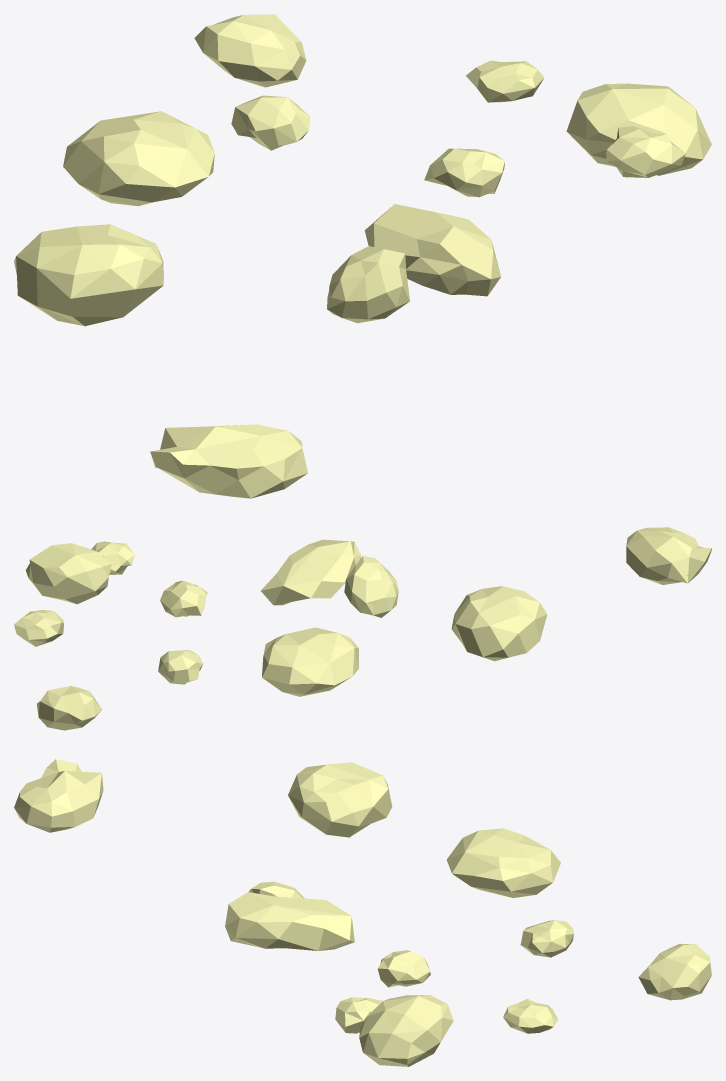
File: MangaKa Props - N_C_Veg_Rocks_01.glb
3 views of the same model, one above another, from view 1: azimuth 30°, elevation 25°; view 2: azimuth 150°, elevation 25°; view 3: azimuth 270°, elevation 25° (orthographic). The views are drawn at different scales.
Visible parts, largest first — view 1: N_C_Veg_Rocks_01_blueScreen; view 2: N_C_Veg_Rocks_01_blueScreen; view 3: N_C_Veg_Rocks_01_blueScreen.
Part boxes in pixels (x1,y1,x2,y2): N_C_Veg_Rocks_01_blueScreen: (14, 14, 711, 498); N_C_Veg_Rocks_01_blueScreen: (14, 527, 711, 730); N_C_Veg_Rocks_01_blueScreen: (14, 759, 711, 1066).
Size of the model in its own units: 11.47 by 1.67 by 12.46.
